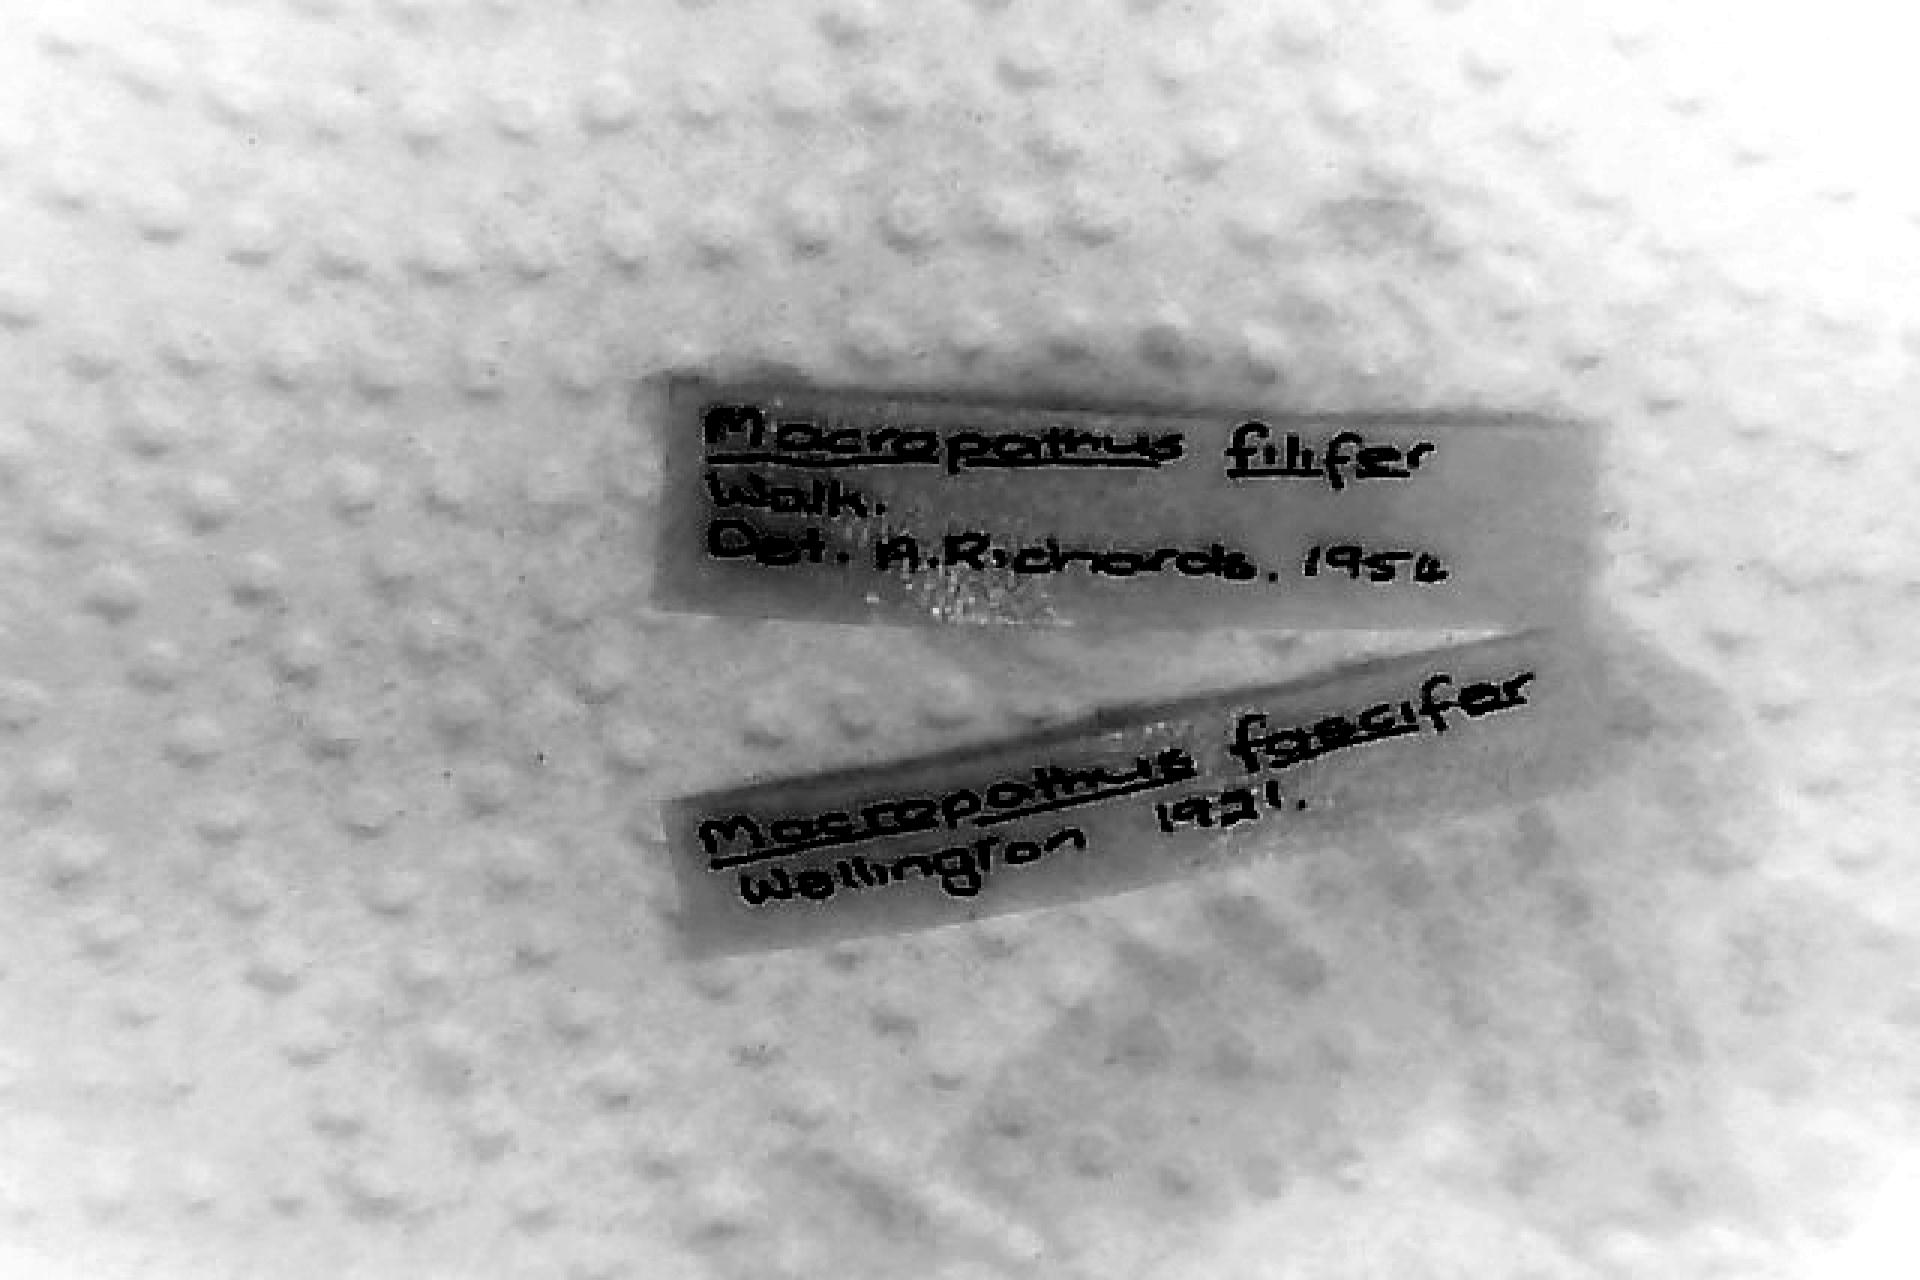hand_label: (668, 637, 1605, 953), (660, 383, 1598, 625)
